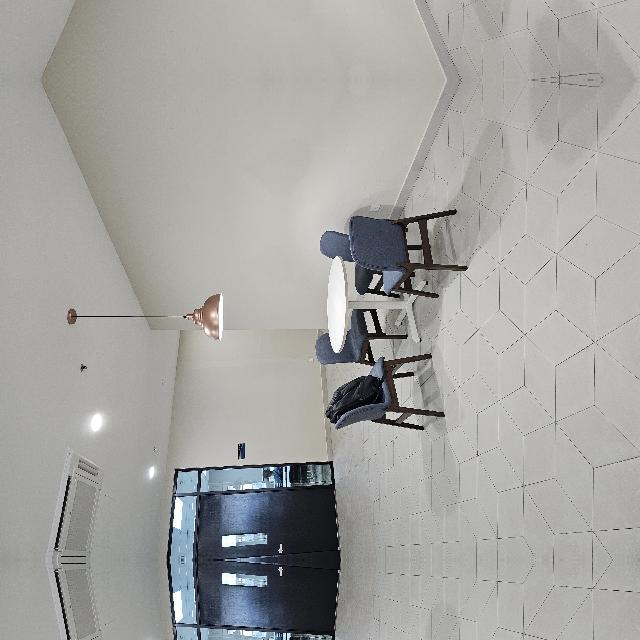obstacle: (128, 385, 350, 545), (128, 575, 350, 640)
